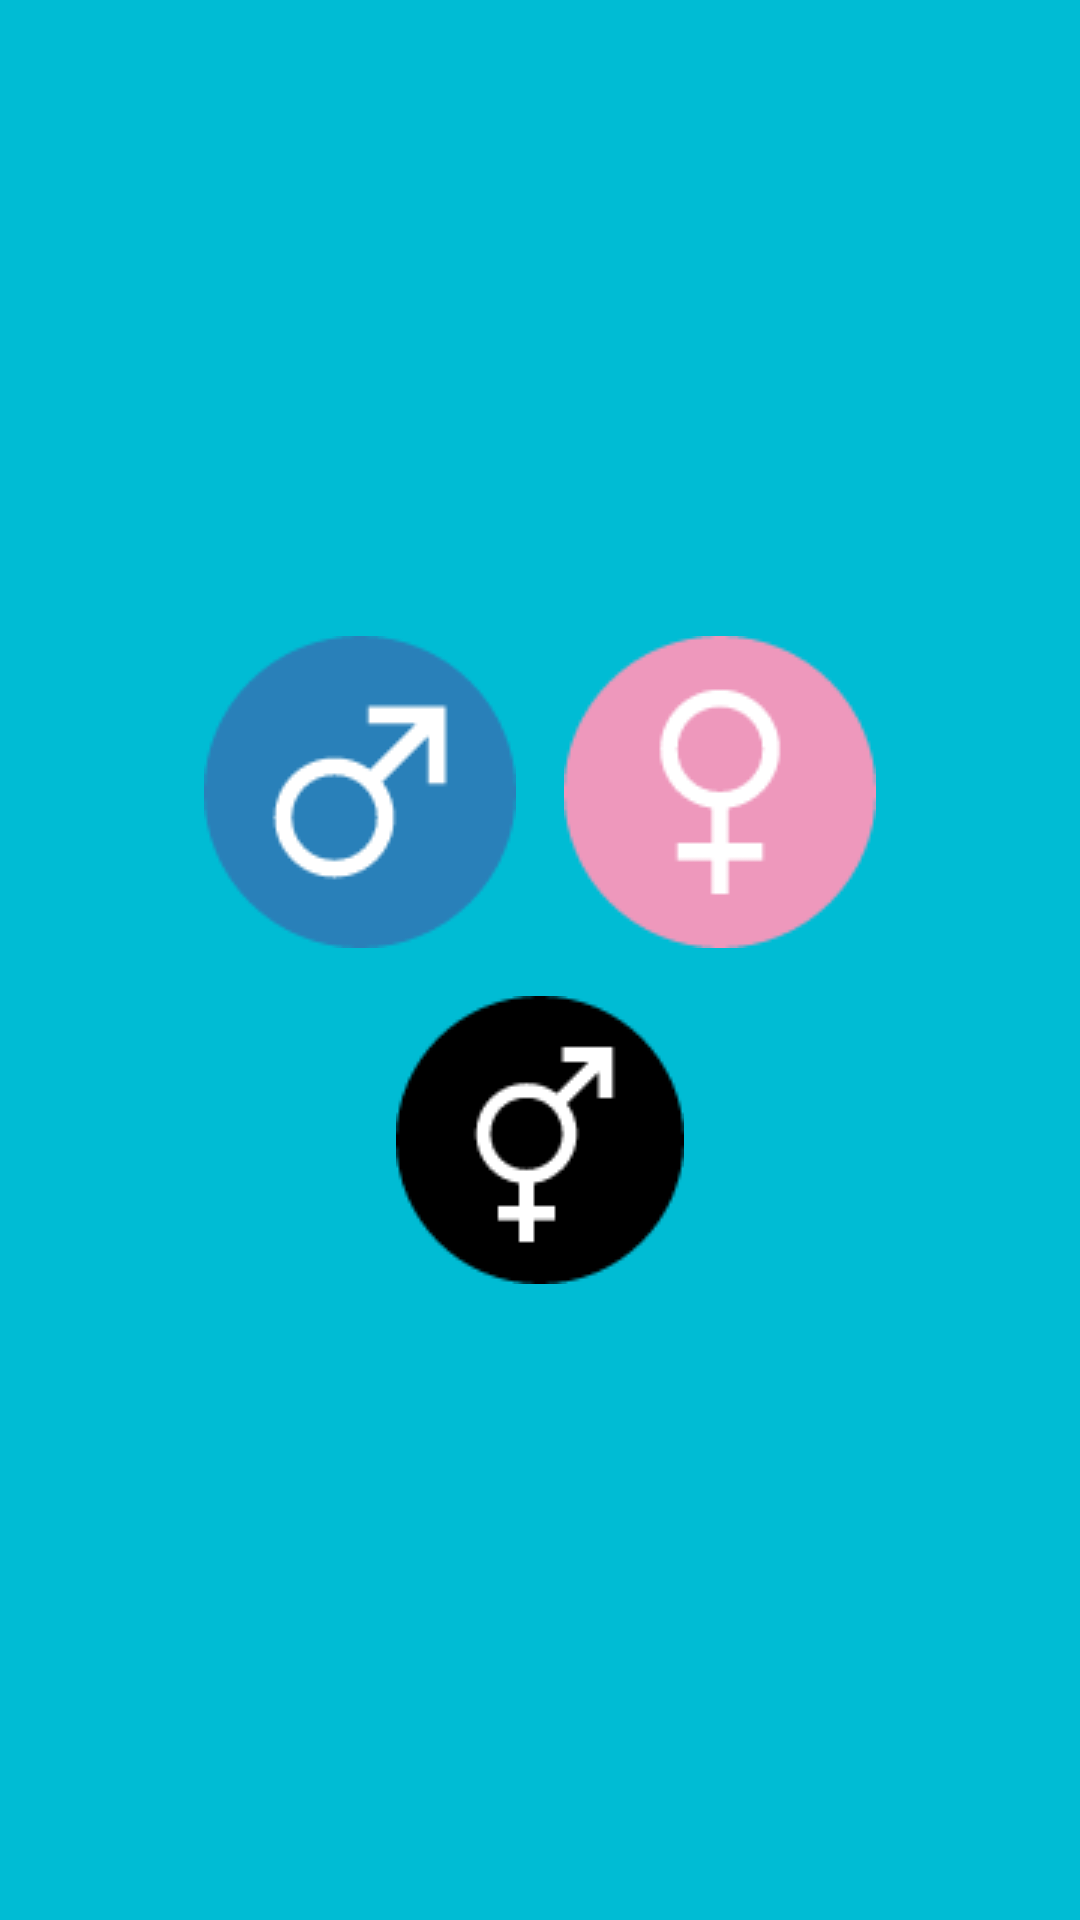

Icons on this 1080 × 1920 Android screen, each with the point to tap as (x,y):
female: (720,792)
male: (360,792)
